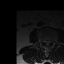CCS_stenosis: (46, 39, 48, 46)
LFS_normal: (50, 39, 52, 44)
LLS_normal: (48, 39, 50, 45)
RFS_normal: (42, 38, 44, 44)
RLS_normal: (44, 39, 46, 44)
